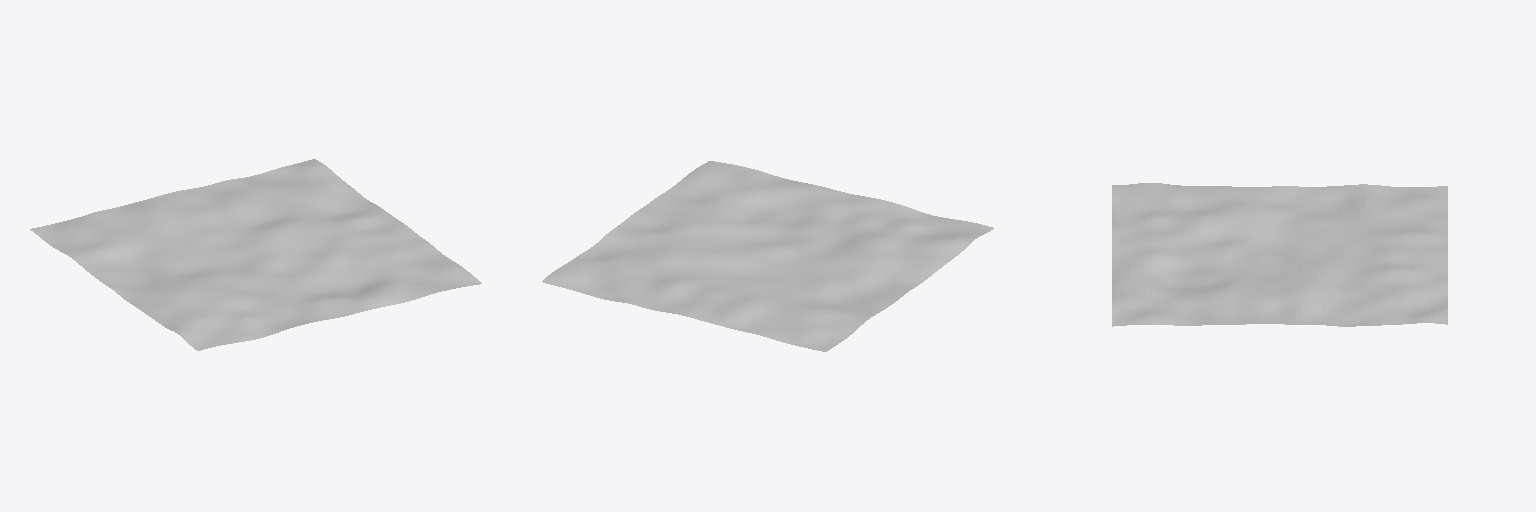
Rendered from ground.obj.
3 views of the same model, side by side, from view 1: azimuth 30°, elevation 25°; view 2: azimuth 150°, elevation 25°; view 3: azimuth 270°, elevation 25° (orthographic).
Visible parts, largest first — view 1: 4.001; view 2: 4.001; view 3: 4.001.
Part boxes in pixels (x1,y1,x2,y2): 4.001: (30,159,481,350); 4.001: (542,161,993,351); 4.001: (1112,183,1447,326).
Bounding box in the file's own units: 277 × 7.27 × 284.